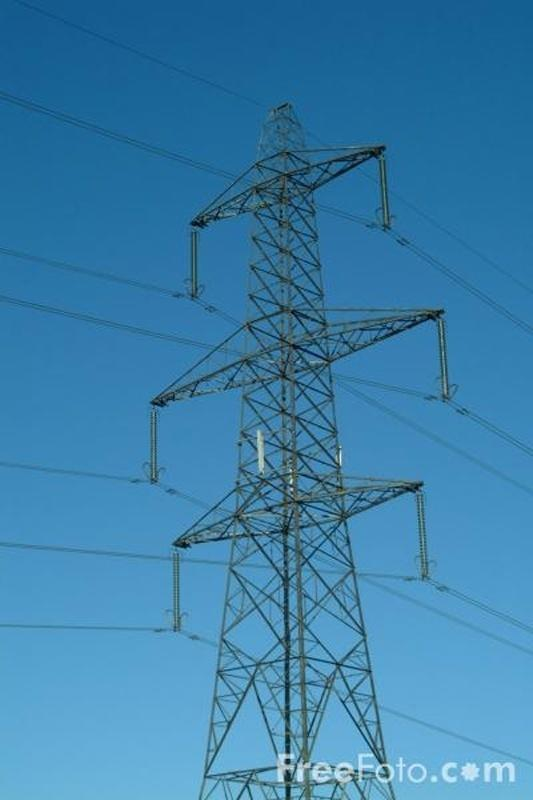power_tower: (130, 101, 469, 800)
